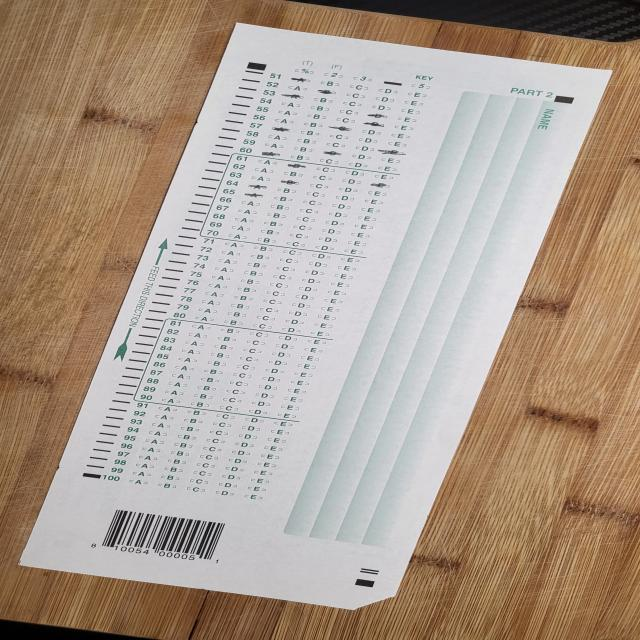scantron_back: (16, 21, 617, 610)
